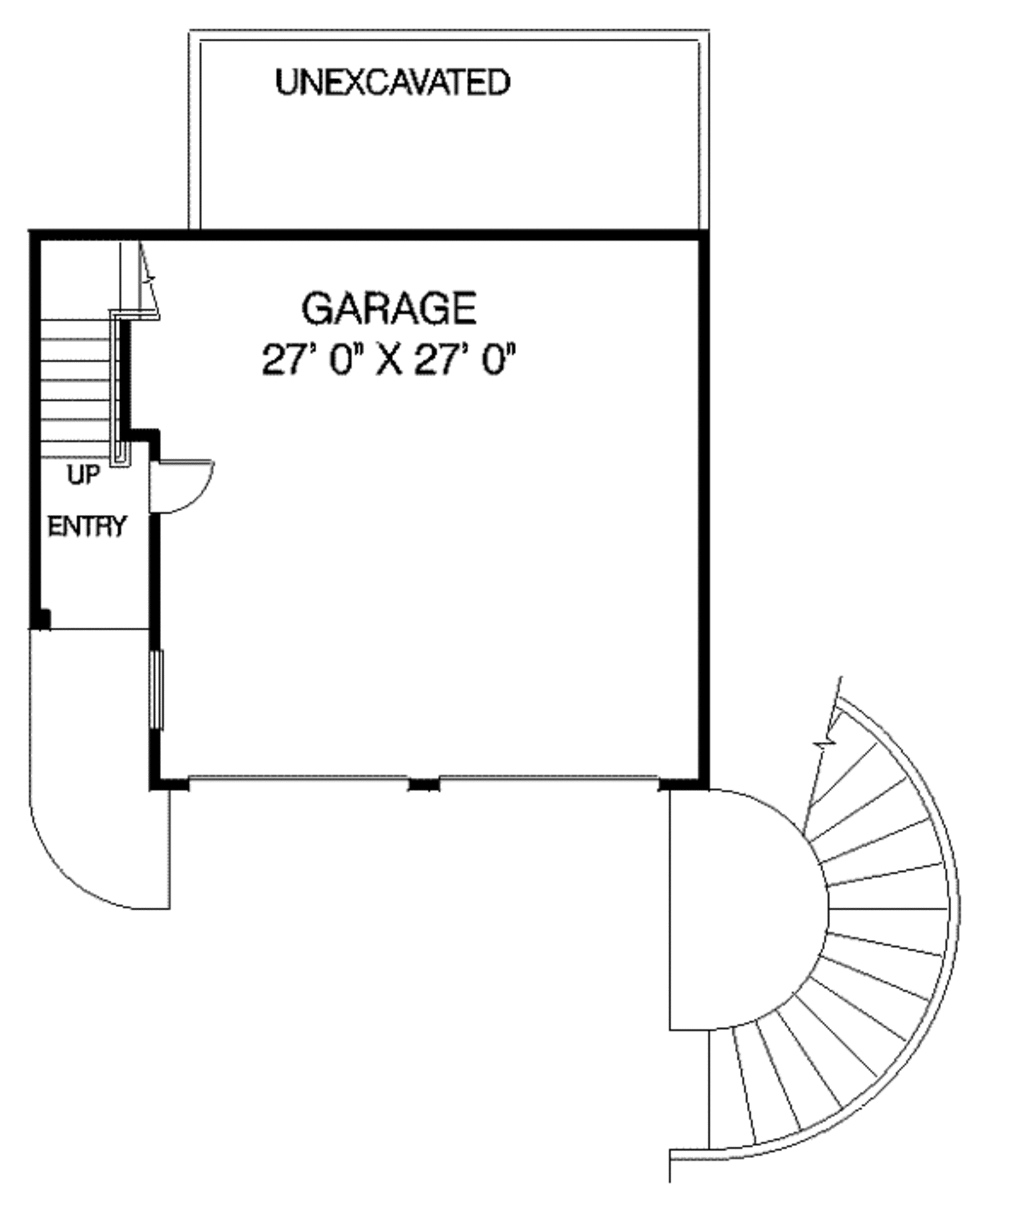door: (144, 445, 218, 521)
stairs: (669, 680, 964, 1204), (29, 225, 154, 634)
window: (146, 640, 173, 733)
